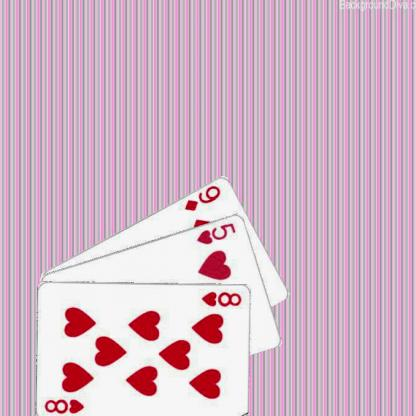5H: (194, 219, 237, 245)
8H: (199, 288, 243, 308), (43, 396, 86, 415)
9D: (182, 182, 222, 212)
